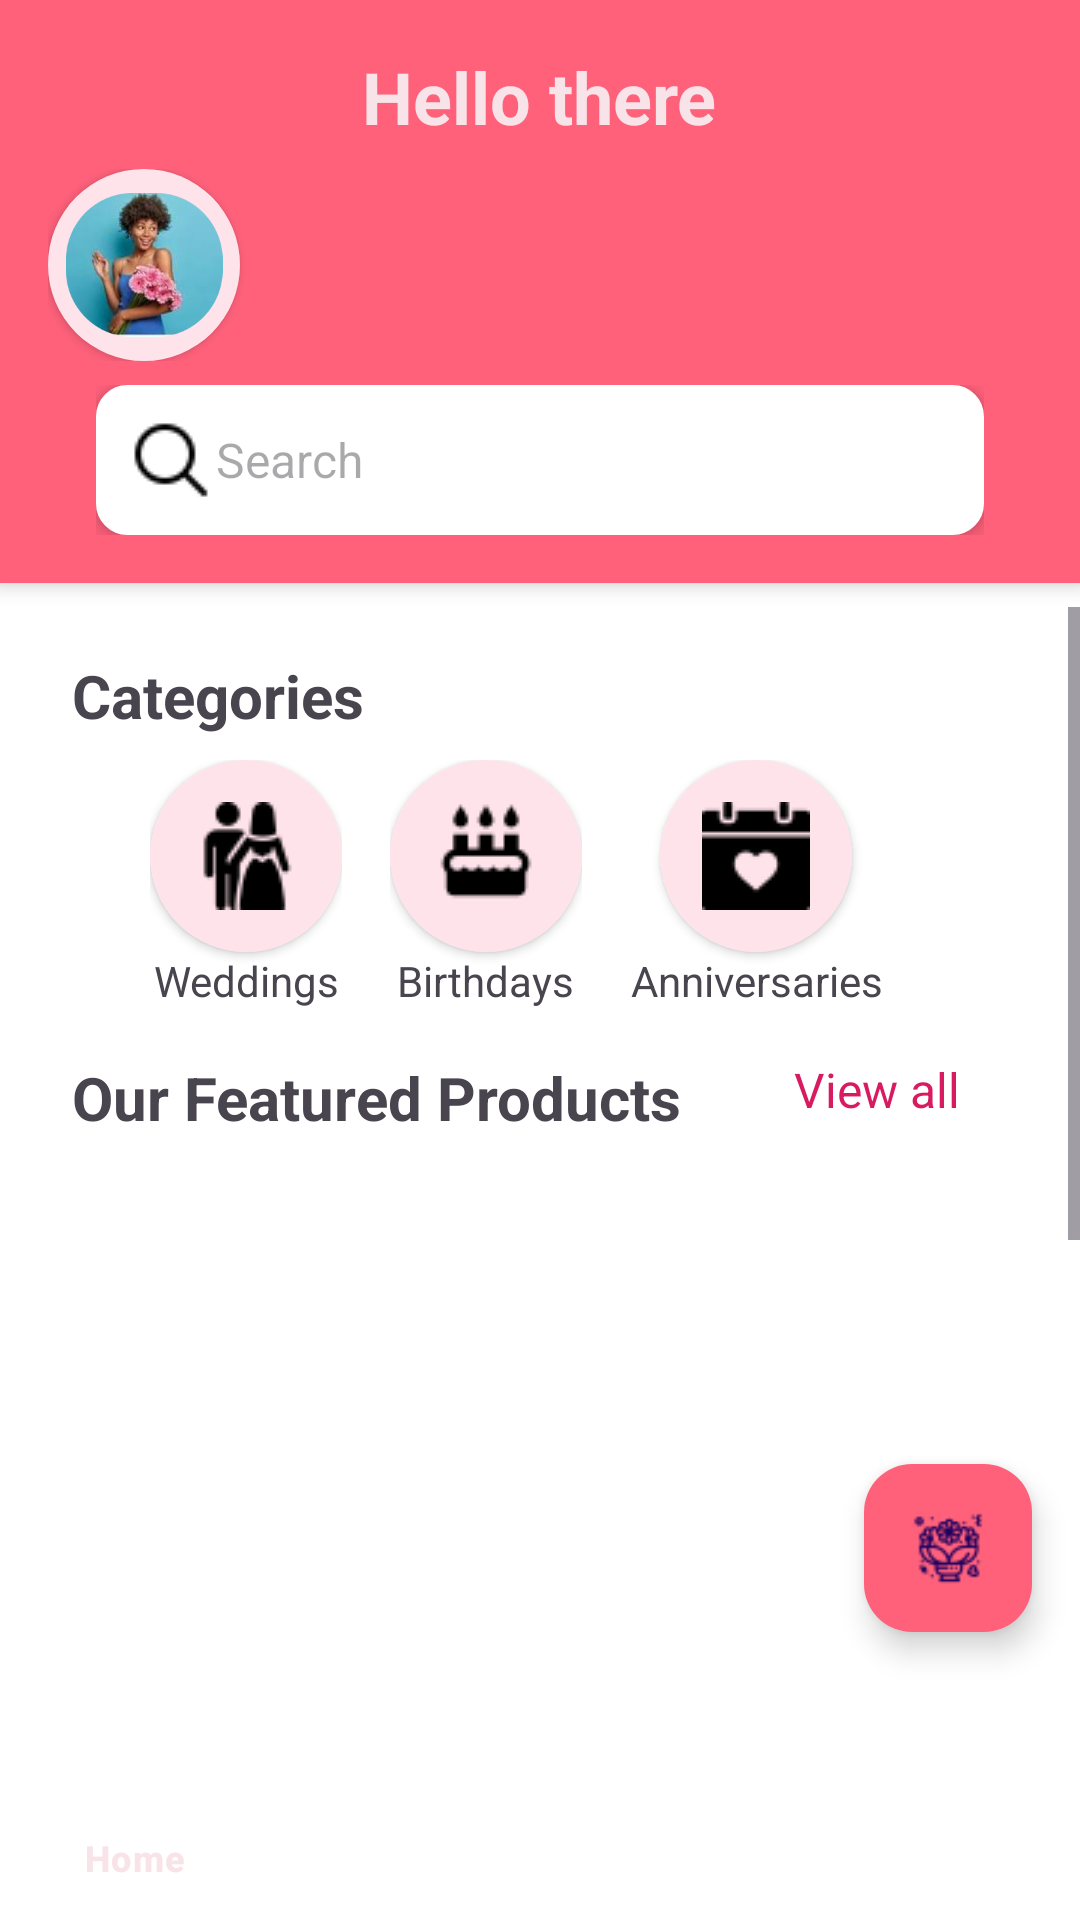

Named icons in this screenshot (1080px×1920px) and their bounding boxes, (x1, y1, x2, y2):
Profile Picture: (48, 169, 240, 361)
